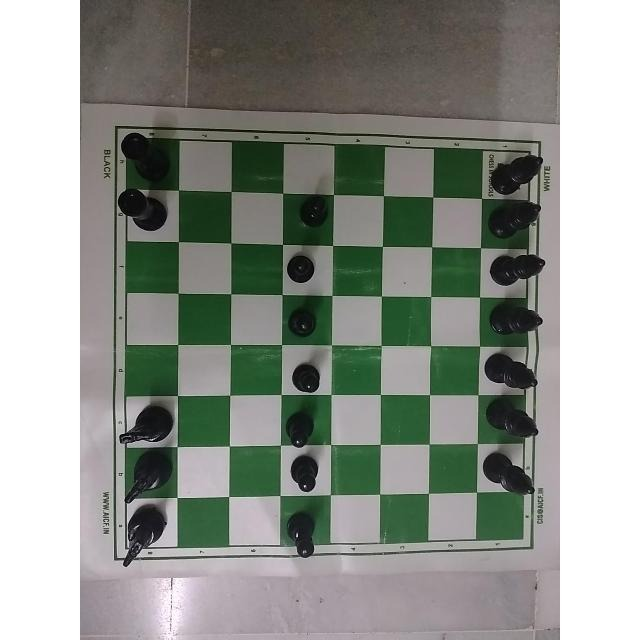black-bishop: (482, 301, 558, 348), (478, 445, 540, 497), (487, 250, 551, 298), (478, 399, 544, 445), (491, 142, 542, 198), (481, 350, 545, 391), (486, 198, 544, 240)
black-knight: (114, 508, 183, 573), (107, 450, 179, 502), (112, 396, 174, 448)
black-pawn: (284, 510, 329, 567), (282, 448, 330, 500), (276, 403, 326, 449), (279, 353, 337, 392), (285, 304, 335, 344), (280, 255, 330, 291), (297, 192, 332, 230)
black-rook: (118, 124, 182, 183), (105, 191, 171, 233)
